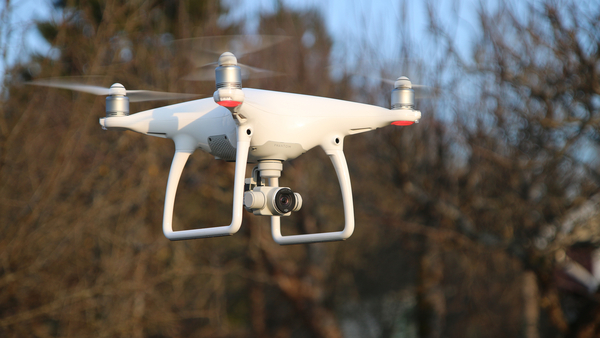drone: (93, 38, 425, 245)
